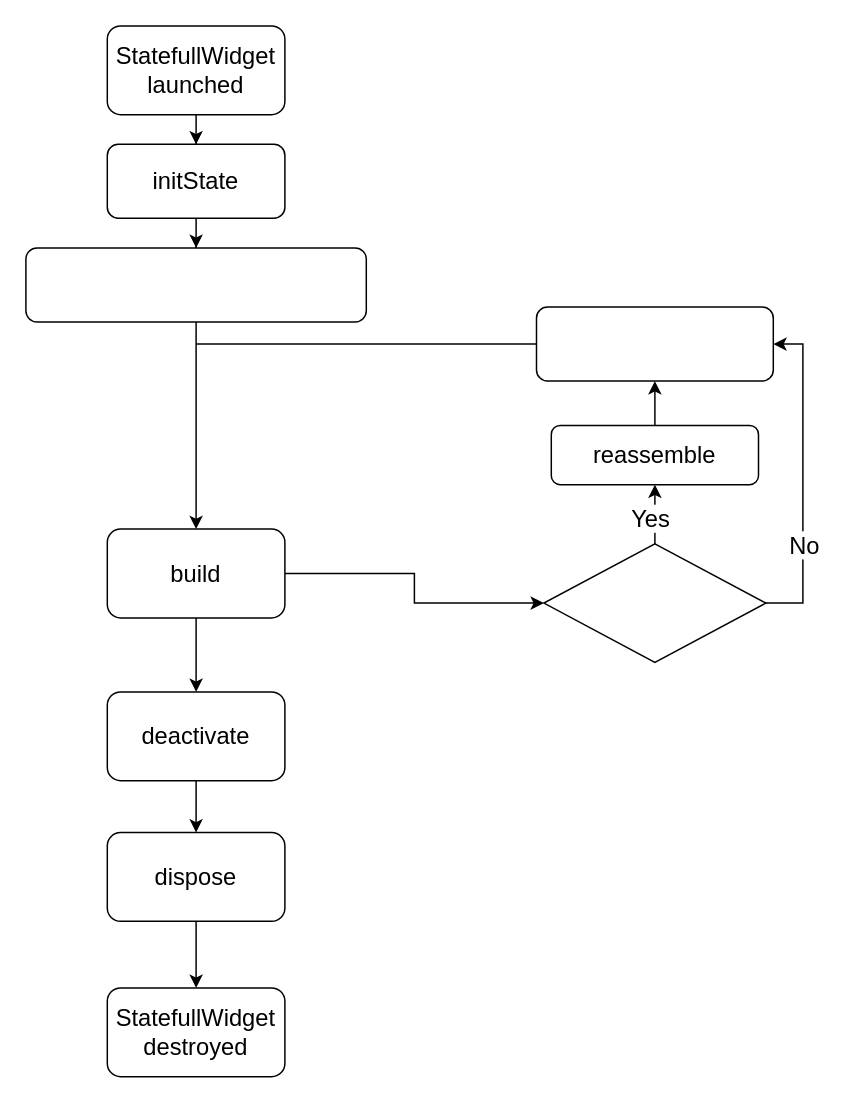
This 844x1103 diagram has some shape labels left out. Here are the shapes that lost their labels. From the top down, the centre of each, then its label:
At [195,284]: "didChangeDependencies".
At [654,343]: "didUpdateWidget".
At [654,602]: "hot reload?".
